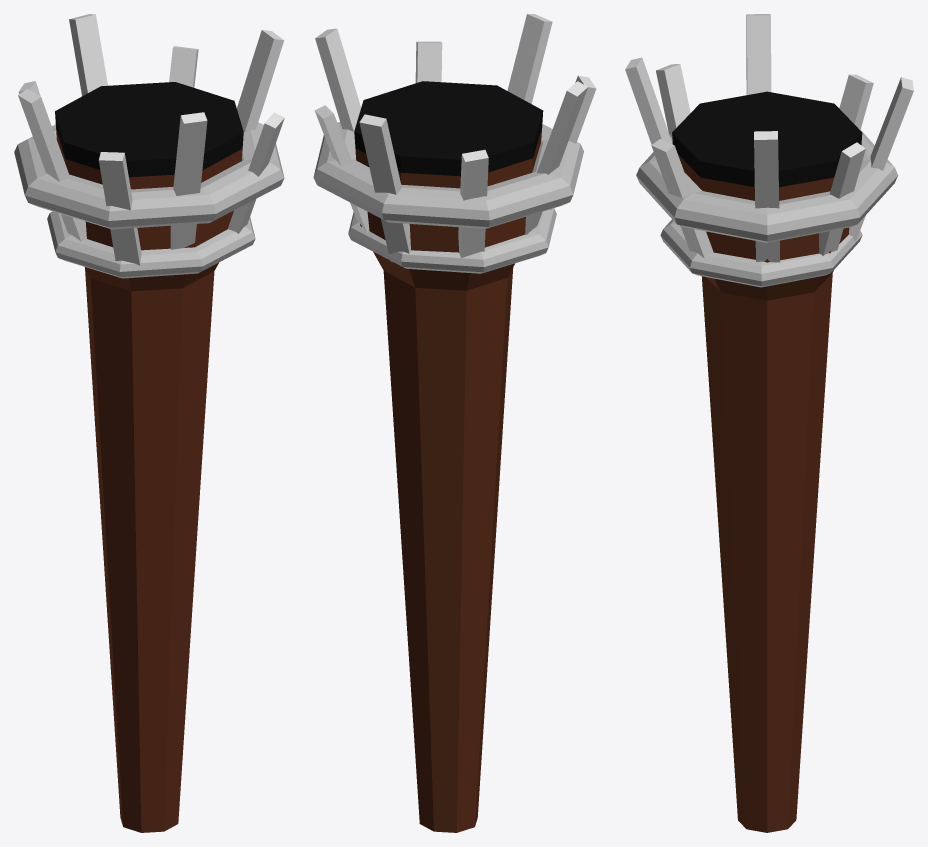
File: torch_model.fbx
3 renders of one model, left to right at view 1: azimuth 30°, elevation 25°; view 2: azimuth 150°, elevation 25°; view 3: azimuth 270°, elevation 25°, orthographic.
Visible parts, largest first — view 1: torch; view 2: torch; view 3: torch.
Boxes of the visible parts, left/top/right/bottom form: torch: left=14, top=14, right=284, bottom=832; torch: left=313, top=14, right=596, bottom=832; torch: left=625, top=14, right=913, bottom=832.
Size of the model in its own units: 315 by 886 by 310.
